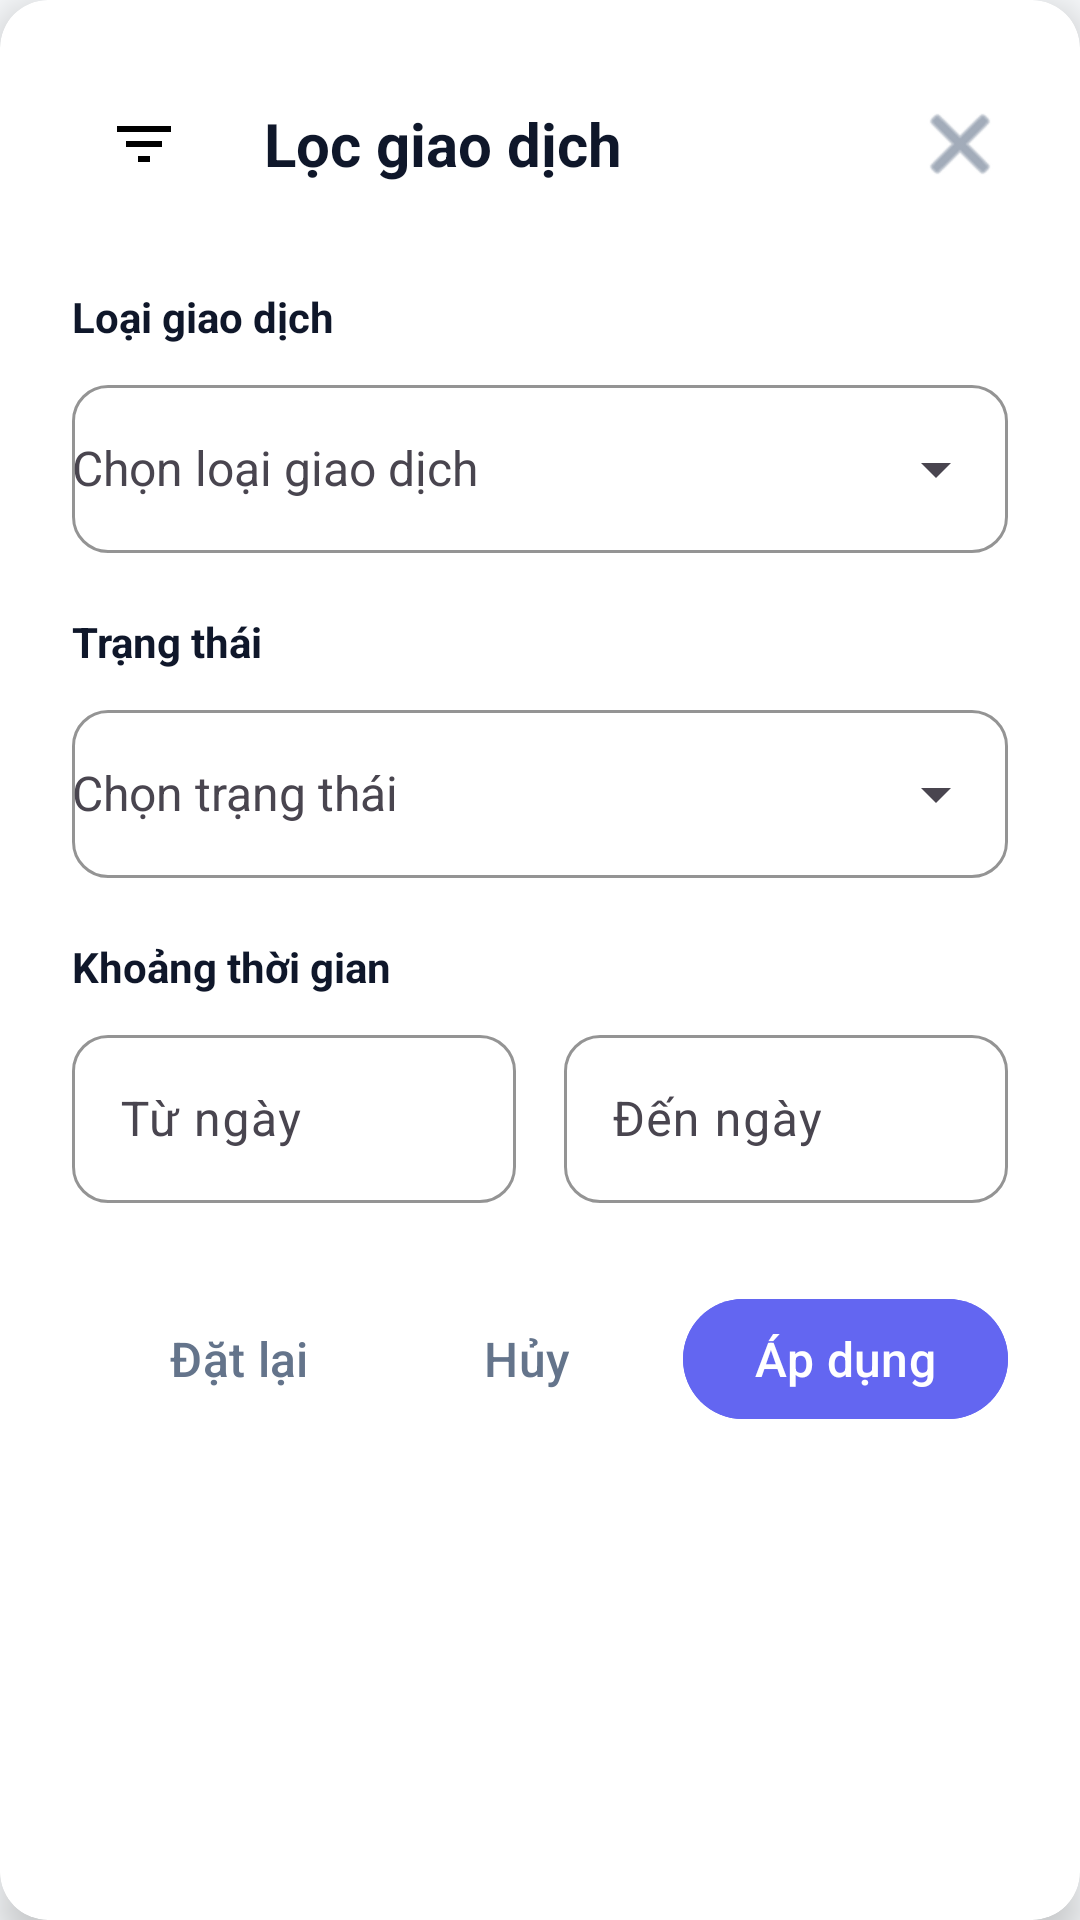

Locate icon controls on the screen. Image size 1080 × 1920, boxes as bbox=[x1, y1, x2, y2].
Đóng: bbox=[930, 114, 990, 174]
